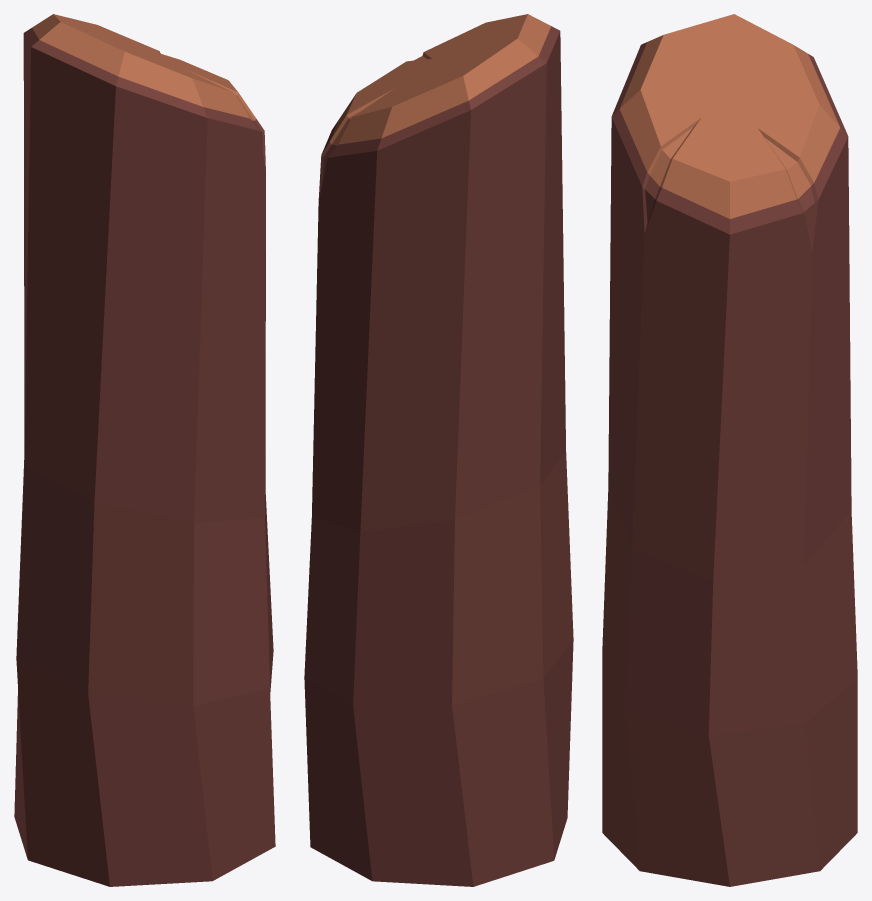
Rendered from Wooden Pole Blunt 05.fbx.
The picture shows the model from 3 angles, left to right: view 1: azimuth 30°, elevation 25°; view 2: azimuth 150°, elevation 25°; view 3: azimuth 270°, elevation 25°; orthographic projection. The views are drawn at different scales.
Parts seen in each view (by area): view 1: Wooden Pole Blunt 05; view 2: Wooden Pole Blunt 05; view 3: Wooden Pole Blunt 05.
Part boxes in pixels (left/top/right/bottom): Wooden Pole Blunt 05: left=14, top=14, right=275, bottom=886; Wooden Pole Blunt 05: left=304, top=14, right=573, bottom=886; Wooden Pole Blunt 05: left=602, top=14, right=857, bottom=886.
Size of the model in its own units: 32.82 by 111 by 32.82.
